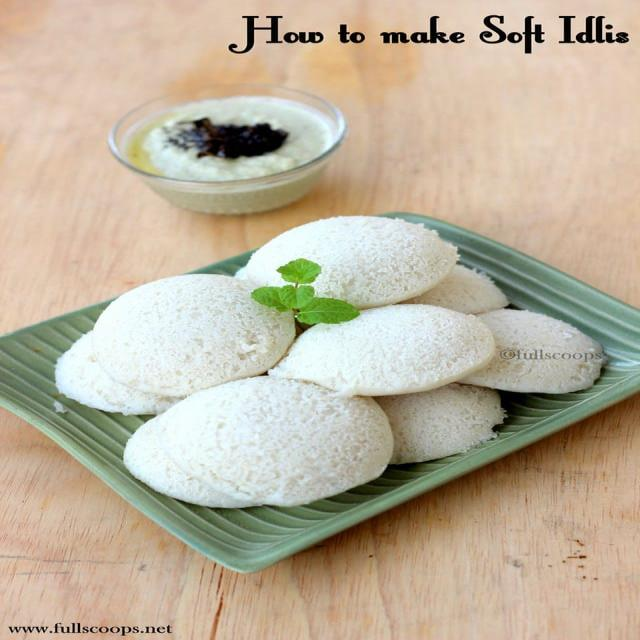Idly: (154, 369, 403, 527), (94, 272, 297, 406), (247, 202, 467, 314), (277, 298, 500, 399), (464, 300, 630, 406), (384, 380, 521, 466)
